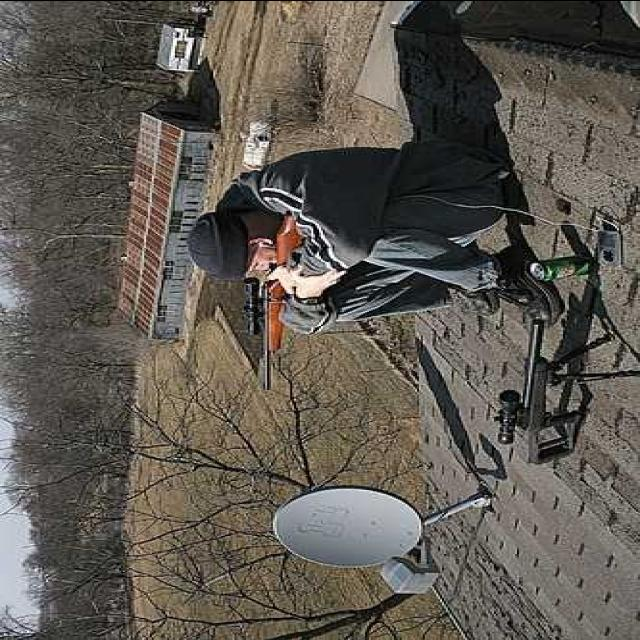heavyweapon: (478, 319, 640, 481), (242, 205, 315, 402)
